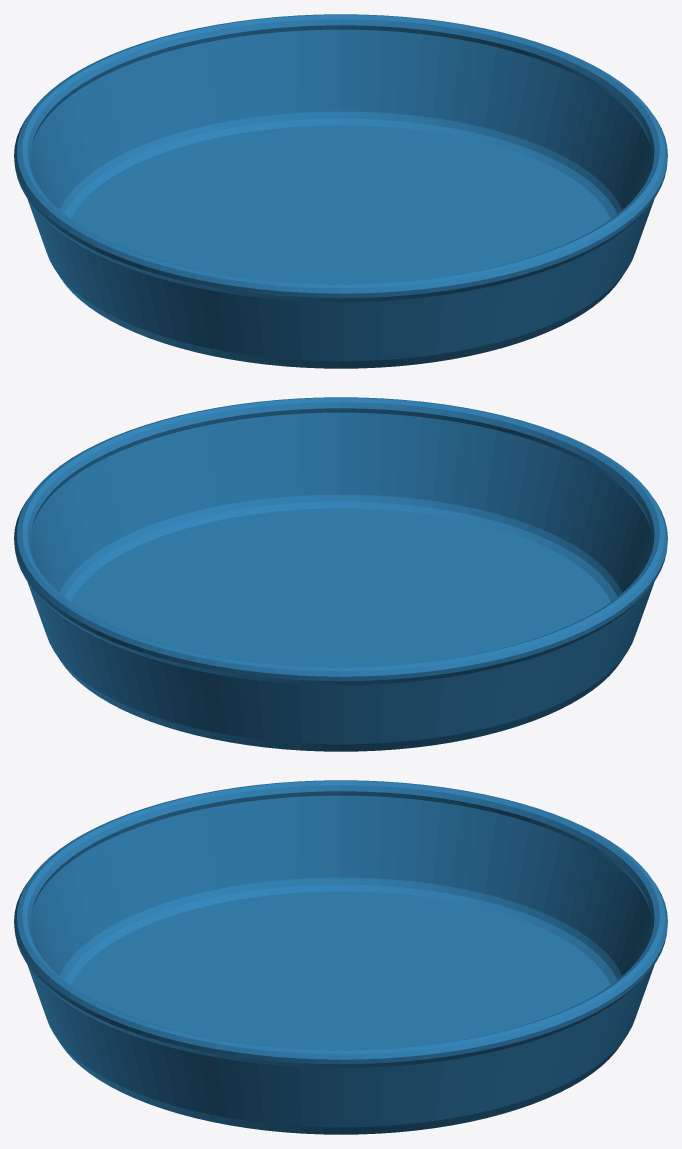
File: full.fbx
3 views of the same model, one above another, from view 1: azimuth 30°, elevation 25°; view 2: azimuth 150°, elevation 25°; view 3: azimuth 270°, elevation 25° (orthographic).
Parts seen in each view (by area): view 1: Continuous rigid paddling basin; view 2: Continuous rigid paddling basin; view 3: Continuous rigid paddling basin.
Boxes of the visible parts, box(x1,y1,x2,y2) form: Continuous rigid paddling basin: box(14, 14, 667, 368); Continuous rigid paddling basin: box(14, 397, 667, 751); Continuous rigid paddling basin: box(14, 780, 667, 1134).
Size of the model in its own units: 111 by 19 by 111.
